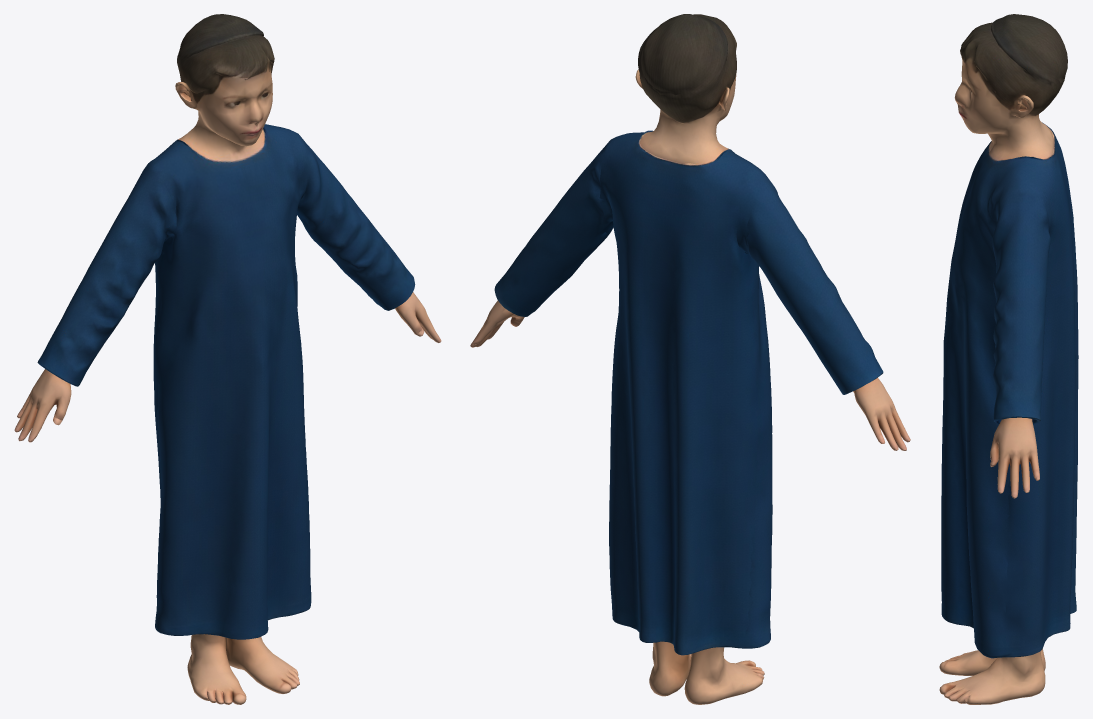
File: enfant_2.glb
3 views of the same model, side by side, from view 1: azimuth 30°, elevation 25°; view 2: azimuth 150°, elevation 25°; view 3: azimuth 270°, elevation 25° (orthographic). The views are drawn at different scales.
Parts seen in each view (by area): view 1: Mesh; view 2: Mesh; view 3: Mesh.
Part boxes in pixels (bbox=[...]): Mesh: bbox=[14, 14, 441, 704]; Mesh: bbox=[470, 14, 910, 704]; Mesh: bbox=[939, 14, 1078, 704].
Size of the model in its own units: 1.27 by 1.89 by 0.3584.
1 material, 1 textured.
